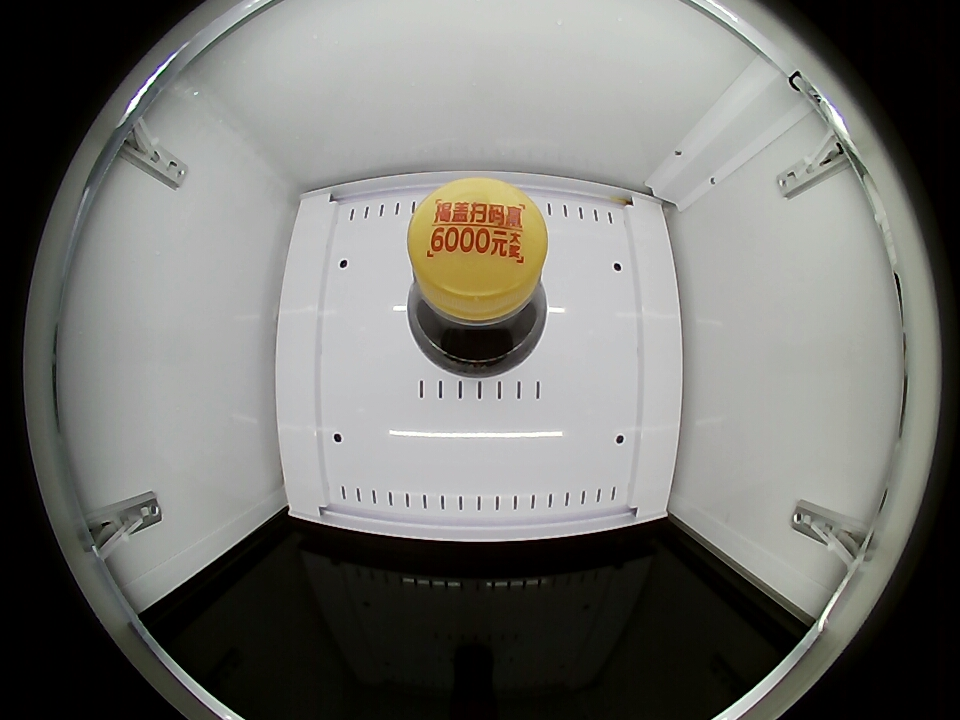kele-b-2: (405, 177, 550, 366)
